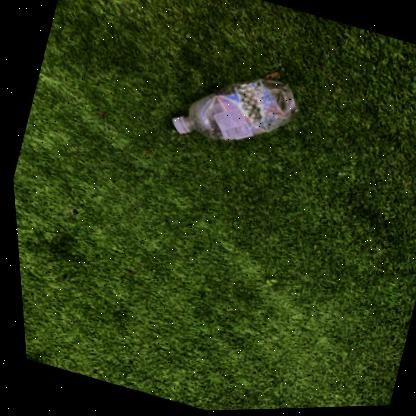Plastic: (169, 72, 298, 140)
